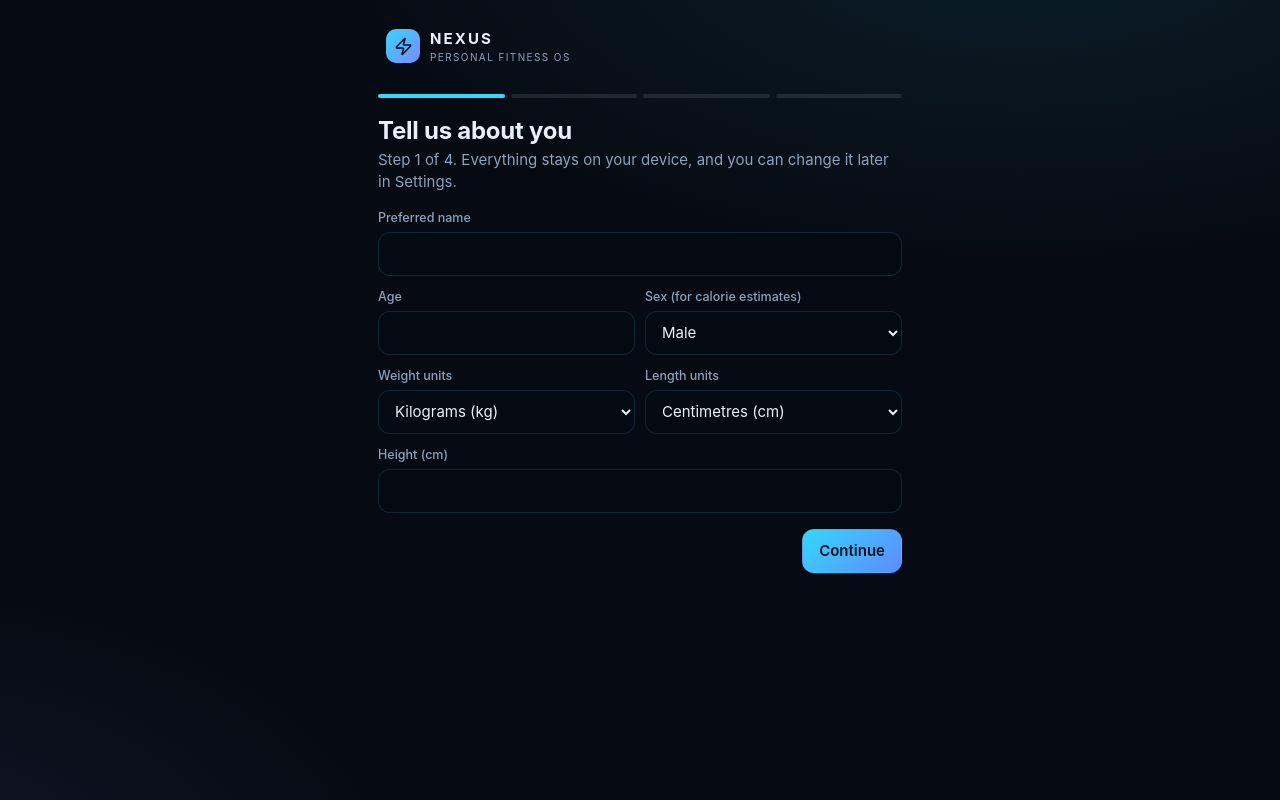
Scenario: app smoke › shows onboarding for a new user and blocks bad input
Expected: the heading "Tell us about you" is shown, [378,116,572,145]
Click the button "Continue" at (852, 551), box [802,529,902,573]
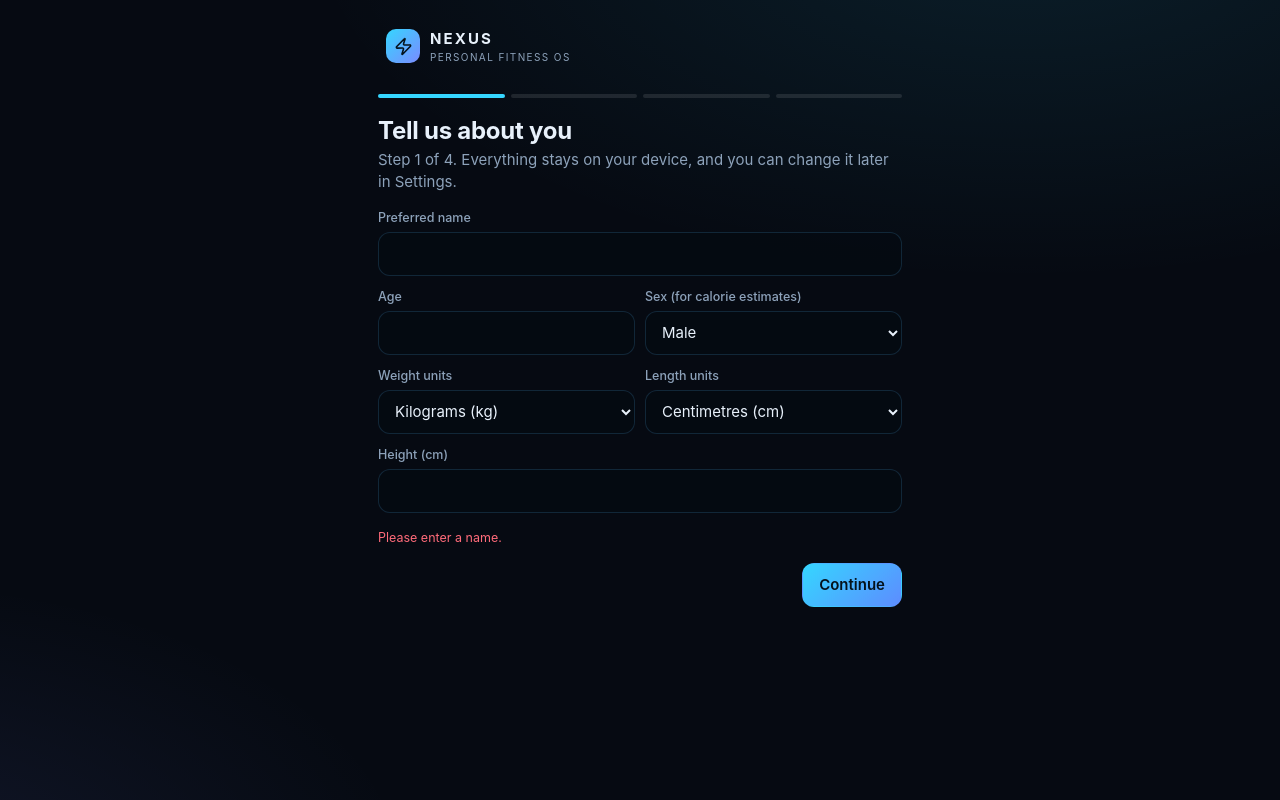
Result: the message shows "name" at [378,530,502,545]
